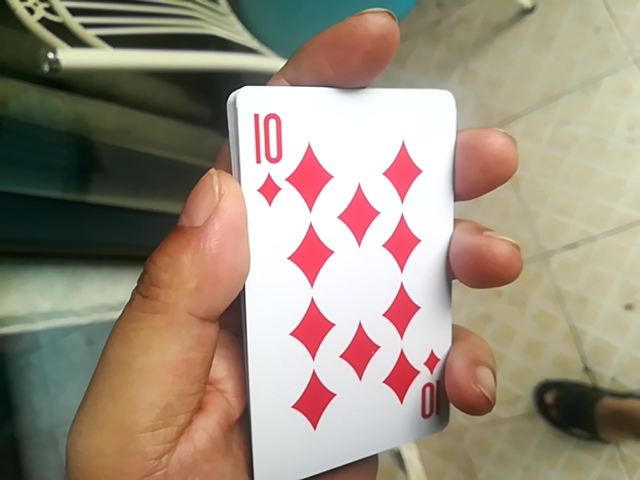fk 10: (244, 91, 467, 475)
